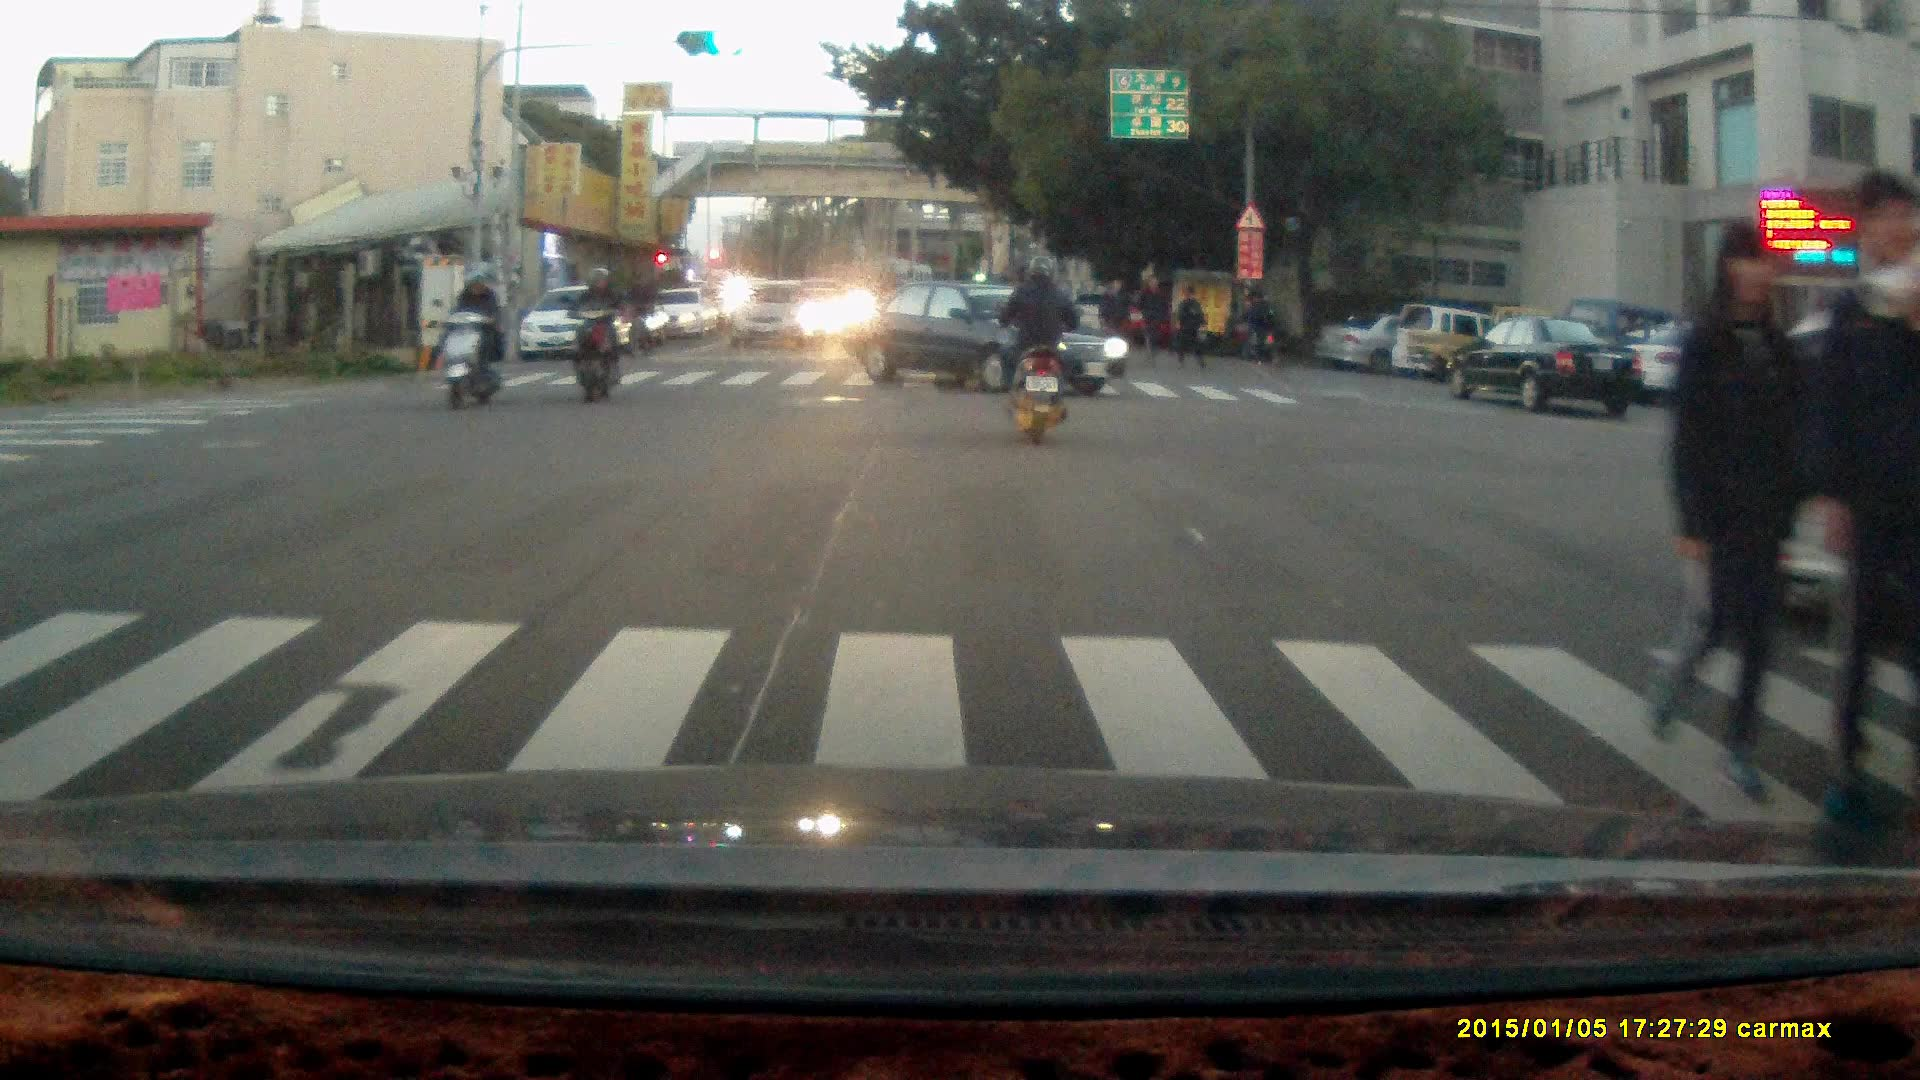pedestrian: (1650, 218, 1818, 801), (1822, 170, 1914, 820), (1134, 272, 1168, 366), (1173, 282, 1206, 374), (1098, 278, 1128, 360), (1246, 288, 1277, 365)
rider: (991, 252, 1078, 447), (439, 262, 506, 409), (560, 264, 628, 406), (623, 267, 657, 363)
vehicle: (836, 274, 1129, 400), (1455, 315, 1645, 414), (1315, 310, 1493, 375), (520, 288, 638, 367), (734, 281, 825, 358)
